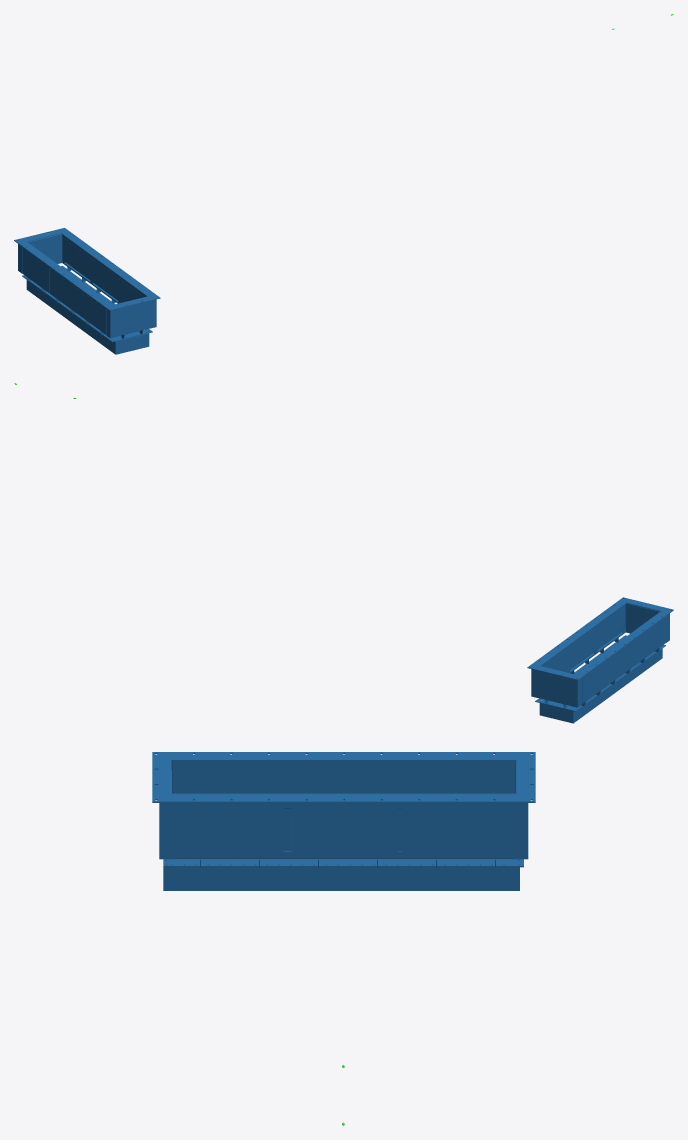
Rendered from Phase12.fbx.
3 views of the same model, one above another, from view 1: azimuth 30°, elevation 25°; view 2: azimuth 150°, elevation 25°; view 3: azimuth 270°, elevation 25° (orthographic). The views are drawn at different scales.
Visible parts, largest first — view 1: RAL_5015 (×6), Воздуховод прямоугольного сечения:CPS_Оцинковка_Тройники_ГОС, 48.50.15.03.101 Планка:48.50.15.03.101 Планка:732357, 48.50.15.03.101 Планка:48.50.15.03.101 Планка:739343; view 2: RAL_5015 (×6), Воздуховод прямоугольного сечения:CPS_Оцинковка_Тройники_ГОС, 48.50.15.03.101 Планка:48.50.15.03.101 Планка:732357, 48.50.15.03.101 Планка:48.50.15.03.101 Планка:739343; view 3: RAL_5015 (×8), Воздуховод прямоугольного сечения:CPS_Оцинковка_Тройники_ГОС, 48.50.15.03.101 Планка:48.50.15.03.101 Планка:739343, 48.50.15.03.101 Планка:48.50.15.03.101 Планка:732357, 48.50.15.01.201 Перемычка.rfa_2:48.50.15.01.201 Перемычка.rf, 48.50.15.03.201 Планка:48.50.15.03.201 Планка:739845, 48.50.15.01.101_2 Балка:48.50.15.01.101_2 Балка:736312, 48.50.15.01.101_02 Балка_низ:48.50.15.01.101_02 Балка_низ:73, 48.50.15.03.102 Планка:48.50.15.03.102 Планка:733350, 48.50.15.03.102 Планка:48.50.15.03.102 Планка:739350.
Part boxes in pixels (x1,y1,x2,y2): RAL_5015 (×6): (23,238,147,335); Воздуховод прямоугольного сечения:CPS_Оцинковка_Тройники_ГОС: (26,280,149,354); 48.50.15.03.101 Планка:48.50.15.03.101 Планка:732357: (14,238,117,310); 48.50.15.03.101 Планка:48.50.15.03.101 Планка:739343: (57,228,160,300); RAL_5015 (×6): (540,608,665,704); Воздуховод прямоугольного сечения:CPS_Оцинковка_Тройники_ГОС: (539,648,662,723); 48.50.15.03.101 Планка:48.50.15.03.101 Планка:732357: (570,608,673,680); 48.50.15.03.101 Планка:48.50.15.03.101 Планка:739343: (527,597,630,669); RAL_5015 (×8): (159,767,528,859); Воздуховод прямоугольного сечения:CPS_Оцинковка_Тройники_ГОС: (163,859,519,890); 48.50.15.03.101 Планка:48.50.15.03.101 Планка:739343: (152,793,535,802); 48.50.15.03.101 Планка:48.50.15.03.101 Планка:732357: (152,752,535,761); 48.50.15.01.201 Перемычка.rfa_2:48.50.15.01.201 Перемычка.rf: (173,761,514,768); 48.50.15.03.201 Планка:48.50.15.03.201 Планка:739845: (172,862,515,867); 48.50.15.01.101_2 Балка:48.50.15.01.101_2 Балка:736312: (175,800,512,808); 48.50.15.01.101_02 Балка_низ:48.50.15.01.101_02 Балка_низ:73: (175,851,512,858); 48.50.15.03.102 Планка:48.50.15.03.102 Планка:733350: (152,760,171,793); 48.50.15.03.102 Планка:48.50.15.03.102 Планка:739350: (516,760,535,793).
Size of the model in its own units: 12690 by 3440 by 3227.
